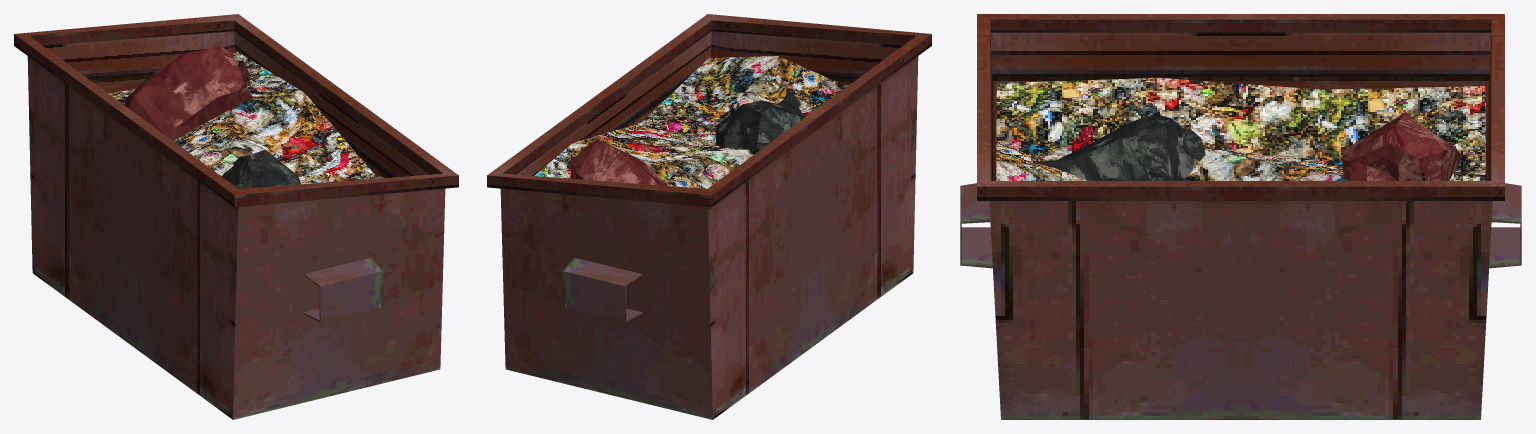
The model's file is dumpster_diagonal_full_no_lid_red.glb.
The picture shows the model from 3 angles, left to right: view 1: azimuth 30°, elevation 25°; view 2: azimuth 150°, elevation 25°; view 3: azimuth 270°, elevation 25°; orthographic projection. The views are drawn at different scales.
Parts seen in each view (by area): view 1: dumpster_diagonal_full_no_lid_red; view 2: dumpster_diagonal_full_no_lid_red; view 3: dumpster_diagonal_full_no_lid_red.
Part boxes in pixels (box(x1,y1,x2,y2)): dumpster_diagonal_full_no_lid_red: box(14, 14, 458, 419); dumpster_diagonal_full_no_lid_red: box(487, 14, 931, 419); dumpster_diagonal_full_no_lid_red: box(960, 14, 1521, 419).
Size of the model in its own units: 2.03 by 2.02 by 3.67.
3 materials, 3 textured.
